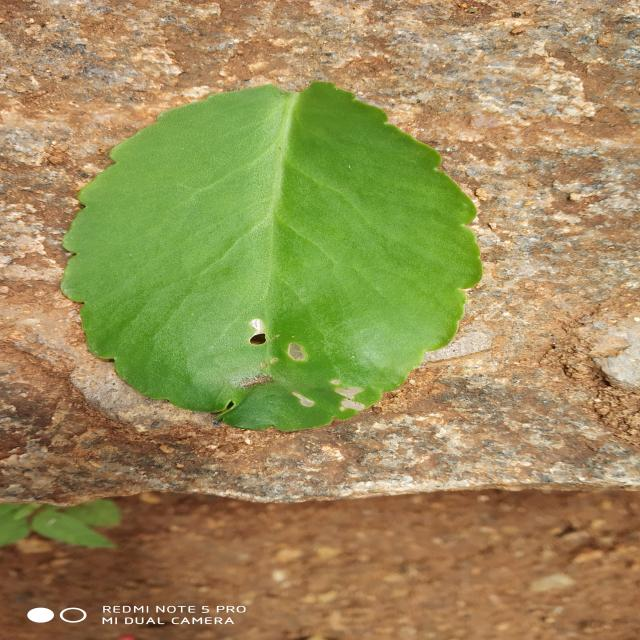defectedspinach: (189, 276, 422, 431)
spinach: (62, 82, 482, 431)
